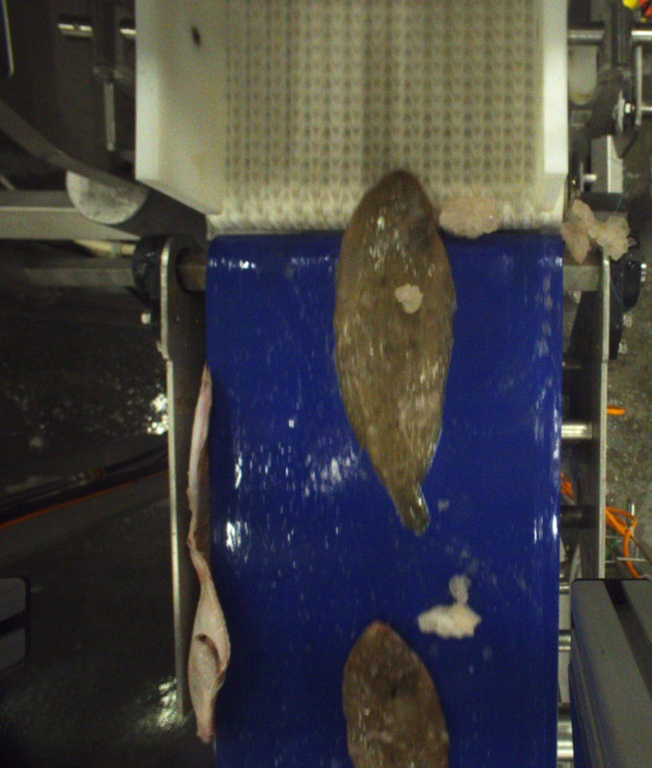SOL: (335, 170, 452, 531)
